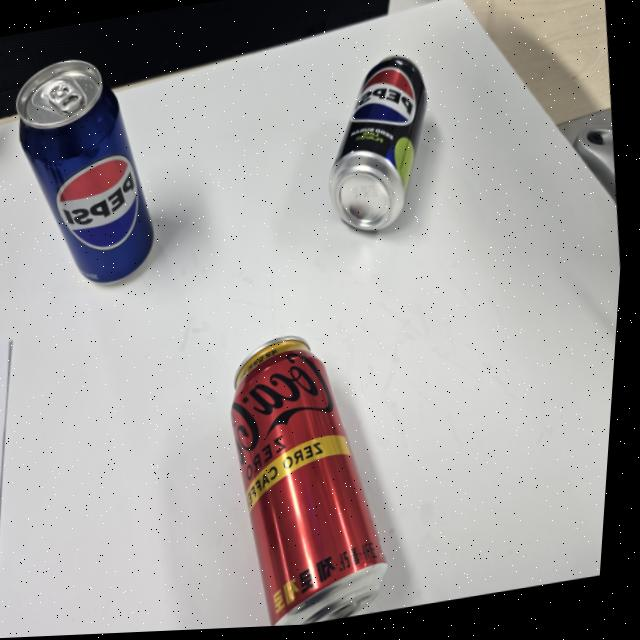can_coke_decaf: (229, 338, 387, 626)
can_pepsi: (15, 61, 153, 282)
can_pepsi_zero: (331, 57, 429, 233)
